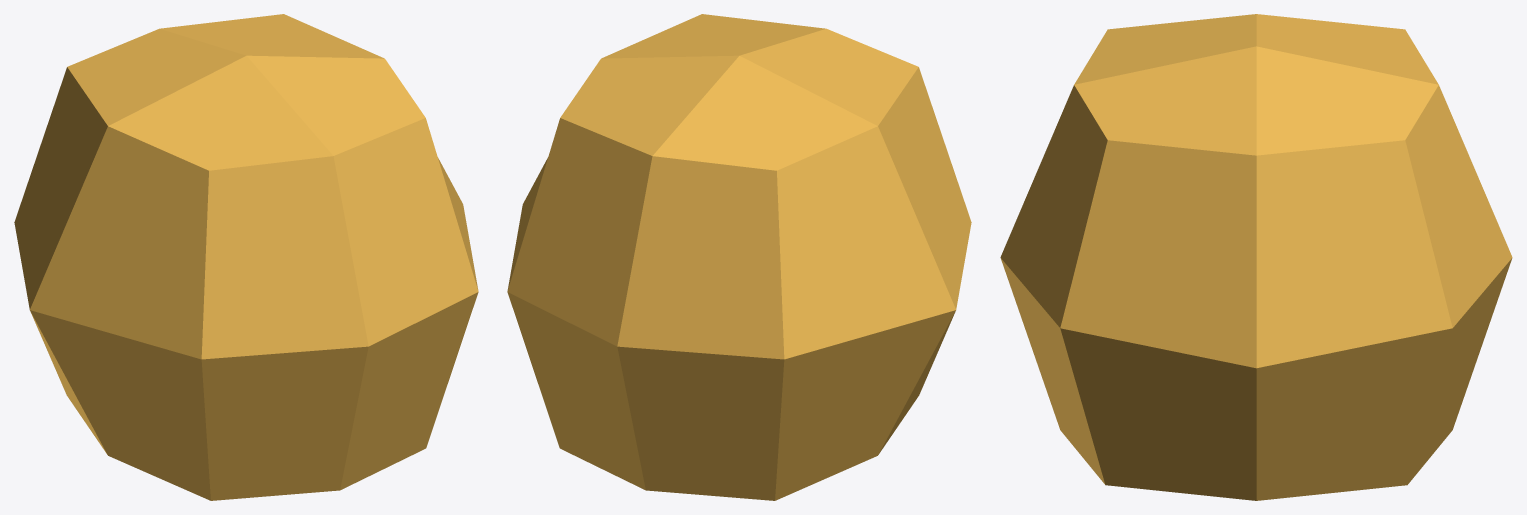
File: MatadorHead.fbx
3 renders of one model, left to right at view 1: azimuth 30°, elevation 25°; view 2: azimuth 150°, elevation 25°; view 3: azimuth 270°, elevation 25°, orthographic. The views are drawn at different scales.
Visible parts, largest first — view 1: Cube.004; view 2: Cube.004; view 3: Cube.004.
Part boxes in pixels (x1,y1,x2,y2): Cube.004: (14,14,478,500); Cube.004: (507,14,971,500); Cube.004: (1000,14,1512,500).
Bounding box in the file's own units: 6.18 × 5.5 × 6.03.
